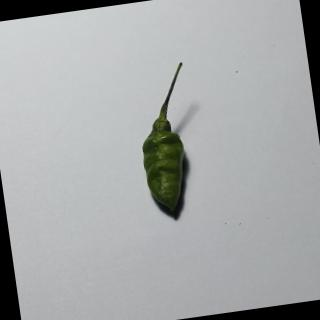Cabai Hijau: (123, 57, 216, 224)
